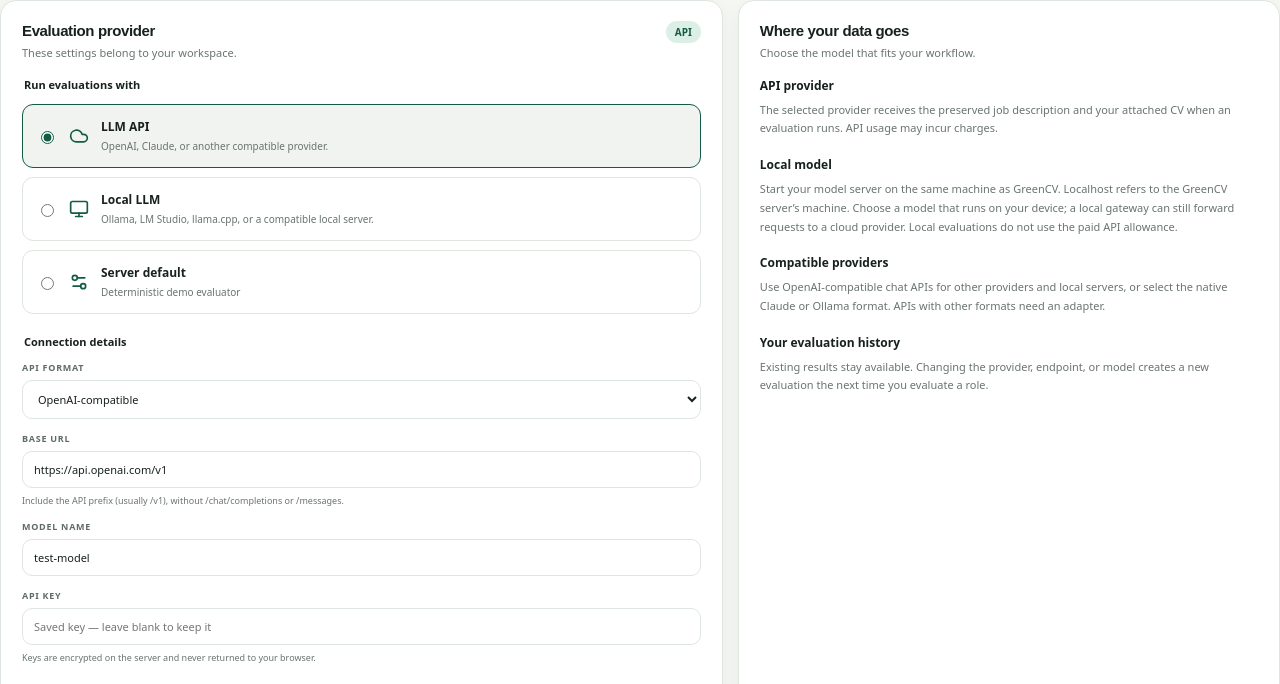
Scenario: LLM settings › saves a changed model while preserving the write-only saved key
This screenshot has width=1280, height=684.
Check: the password field labelled "API key" is empty, box [22,608,701,645]
Replace the text in the field labelled "Model name" with "new-model". click: [361, 558]
box: [22,539,701,576]
(page scrolled)
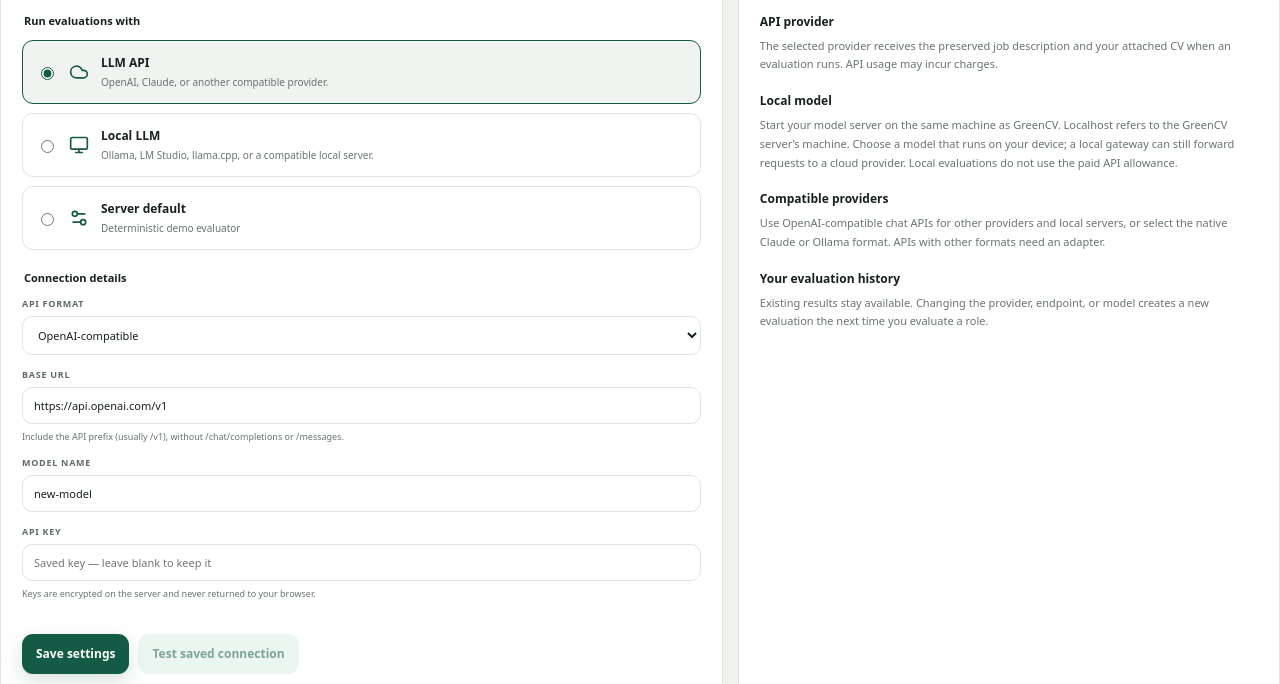
Check: the button "Test saved connection" is disabled, box [138,634,299,674]
Click the button "Save settings". click: [76, 654]
box: [22,634,130,674]
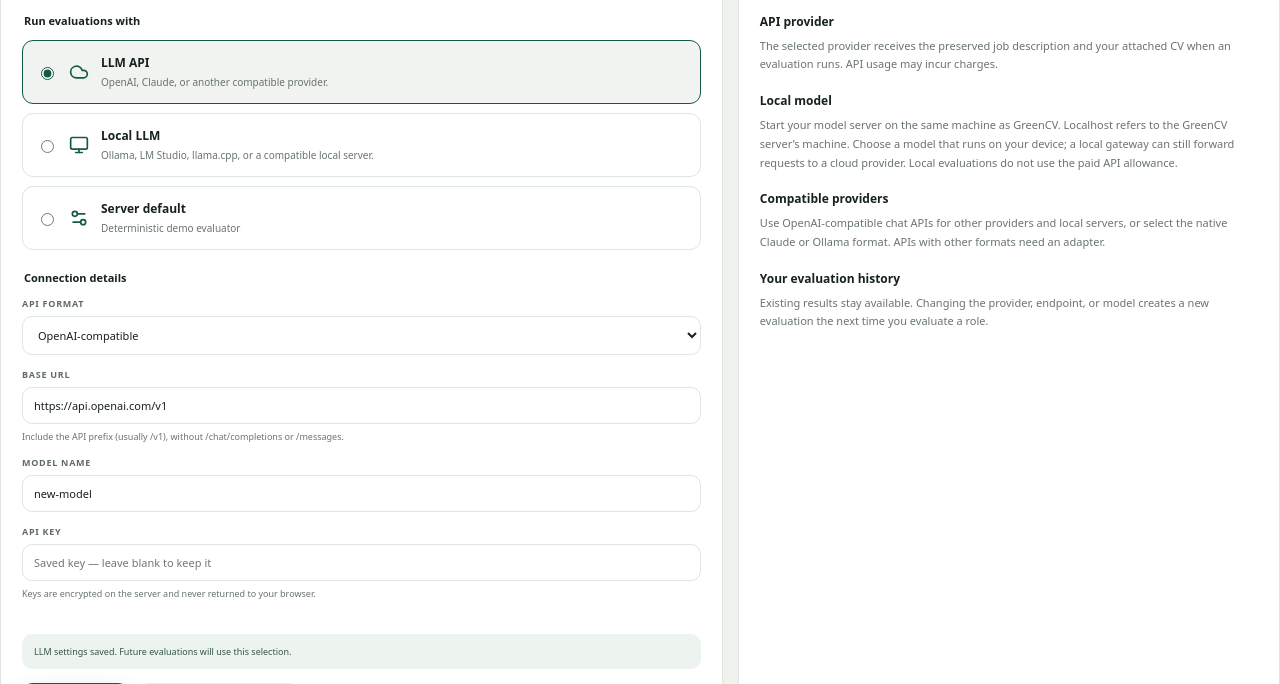
Check: the text "LLM settings saved. Future evaluations will use this selection." is shown, box [22,634,701,669]
